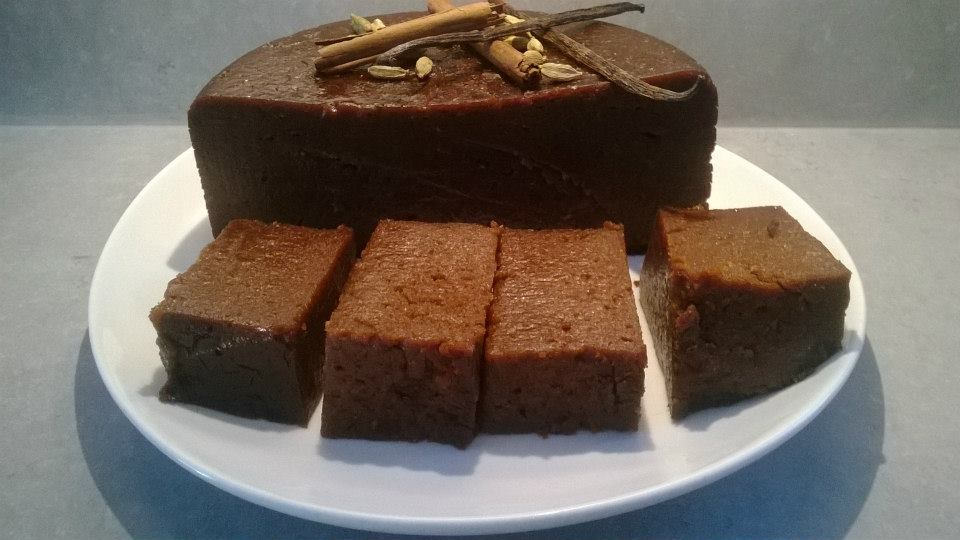Epices: (297, 5, 769, 115)
Godrogodro: (104, 196, 902, 451), (123, 5, 846, 230)
